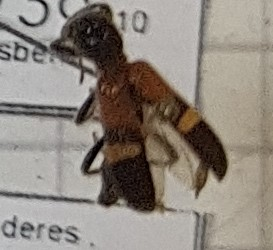opilo_taeniatus: (50, 1, 229, 216)
